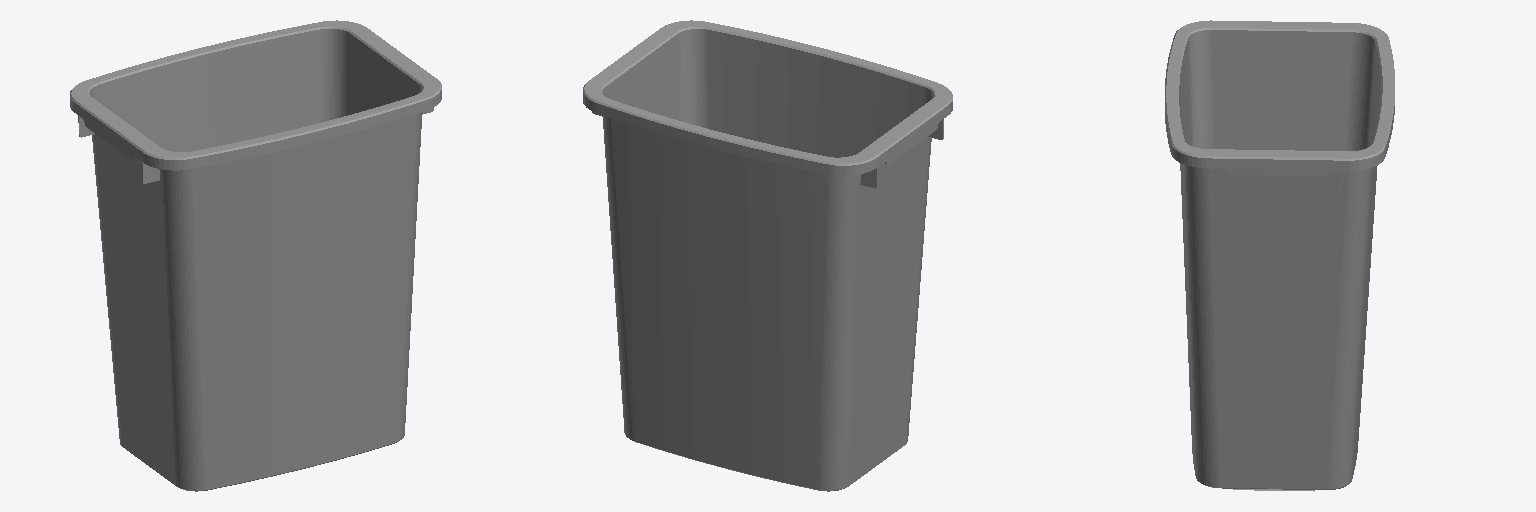
robot.urdf — taskBin1:
<?xml version="1.0"?>
<!-- created with Phobos 1.0.1 "Capricious Choutengan" -->
  <robot name="taskBin1">

    <link name="taskBin1_root">
      <inertial>
        <origin xyz="0 0 0" rpy="0 0 0"/>
        <mass value="0.001"/>
        <inertia ixx="0.001" ixy="0" ixz="0" iyy="0.001" iyz="0" izz="0.001"/>
      </inertial>
      <visual name="bin">
        <origin xyz="0 0 0" rpy="0 0 0"/>
        <geometry>
          <mesh filename="..\meshes\dae\bin.dae" scale="1.0 1.0 1.0"/>
        </geometry>
        <material name="$Material_0"/>
      </visual>
      <collision name="bin.col">
        <origin xyz="0 0 0" rpy="0 0 0"/>
        <geometry>
          <mesh filename="..\meshes\dae\bin.001.dae" scale="1.0 1.0 1.0"/>
        </geometry>
      </collision>
    </link>

    <material name="$Material_0">
      <color rgba="0.64 0.64 0.64 1.0"/>
    </material>

  </robot>

--- Facts derived from the render (not from the file) ---
3 views of the same robot in one strip: view 1: azimuth 30°, elevation 25°; view 2: azimuth 150°, elevation 25°; view 3: azimuth 270°, elevation 25° (orthographic).
Robot: taskBin1 — 1 links, 0 joints (none); root link taskBin1_root; default pose: every joint at zero.
Visible links, largest first — view 1: taskBin1_root; view 2: taskBin1_root; view 3: taskBin1_root.
Boxes of the visible links, x1,y1,x2,y2 form: taskBin1_root: (70, 20, 441, 491); taskBin1_root: (583, 20, 952, 491); taskBin1_root: (1165, 20, 1394, 491).
Size in the robot's own frame: 0.286 by 0.1969 by 0.3325 metres.
1 mesh visuals loaded from 1 distinct referenced files (1 Collada DAE).